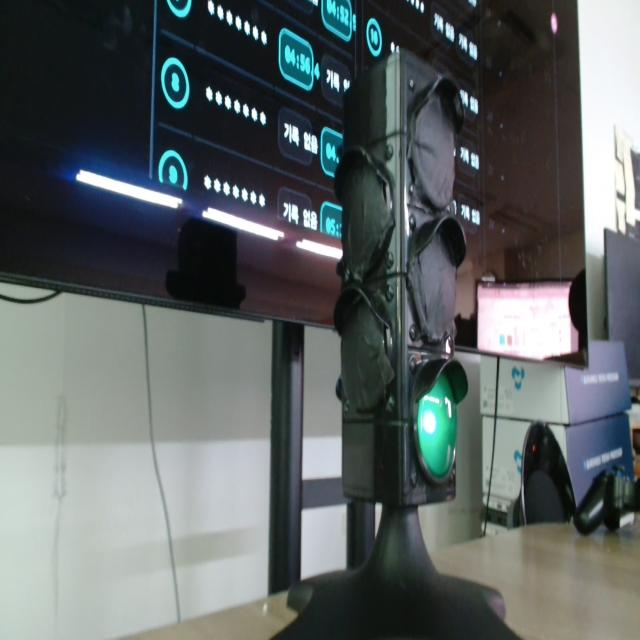green_light: (417, 376, 456, 479)
